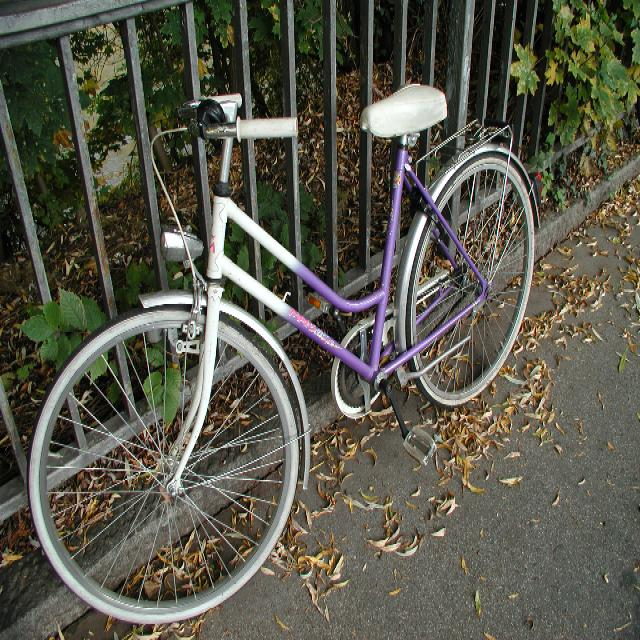bicycle: (27, 82, 538, 622)
